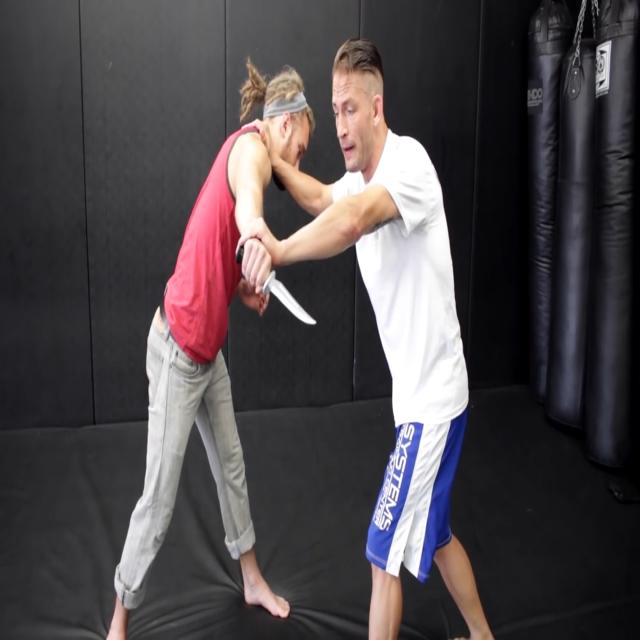knife: (266, 267, 320, 333)
